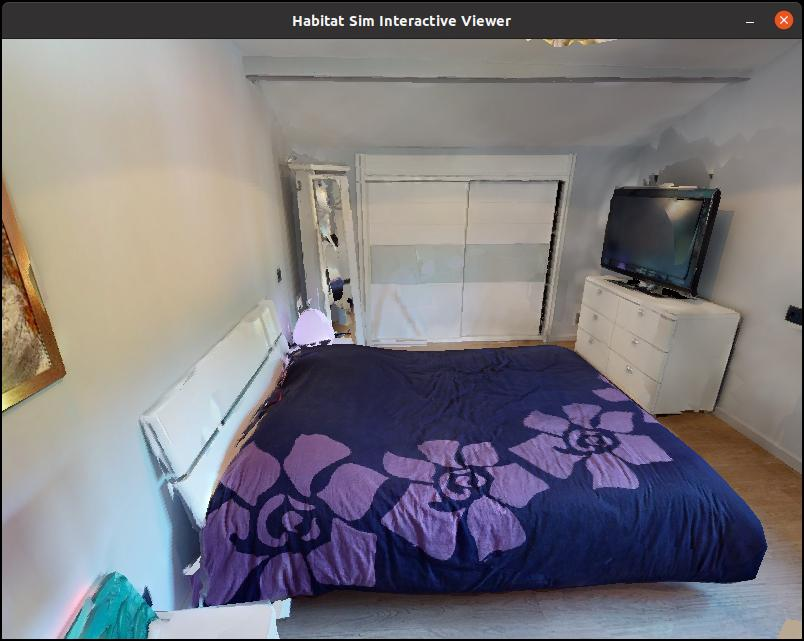bed: (130, 291, 776, 615)
table: (571, 262, 759, 425)
